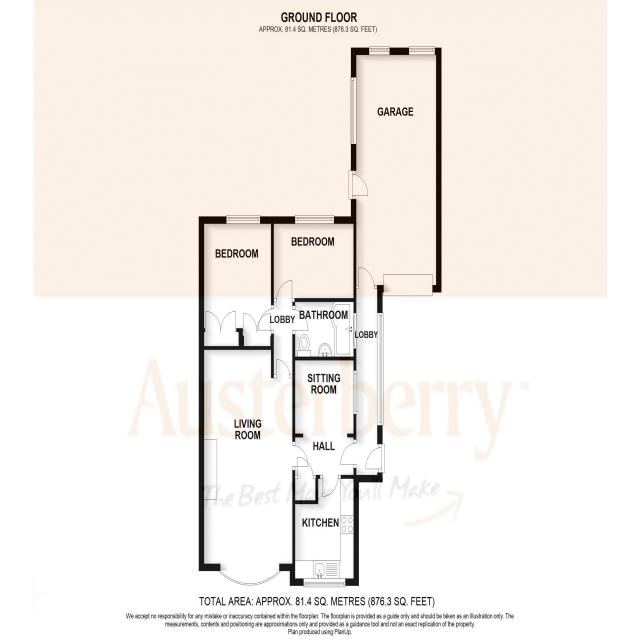DOOR: (364, 444, 385, 473), (349, 171, 370, 199), (294, 455, 316, 480), (356, 265, 378, 289), (256, 305, 274, 334), (274, 277, 294, 303), (320, 475, 341, 499), (292, 441, 309, 470), (340, 439, 356, 468), (293, 306, 309, 334), (274, 358, 293, 379)
ROOM: (199, 346, 312, 586), (199, 216, 274, 350), (289, 474, 359, 586), (271, 216, 356, 302)
WINDOW: (375, 311, 386, 429), (218, 568, 283, 587), (348, 73, 360, 152), (291, 212, 337, 229), (224, 212, 263, 229), (303, 577, 346, 588), (408, 42, 437, 57), (367, 43, 393, 58), (352, 368, 359, 416)
